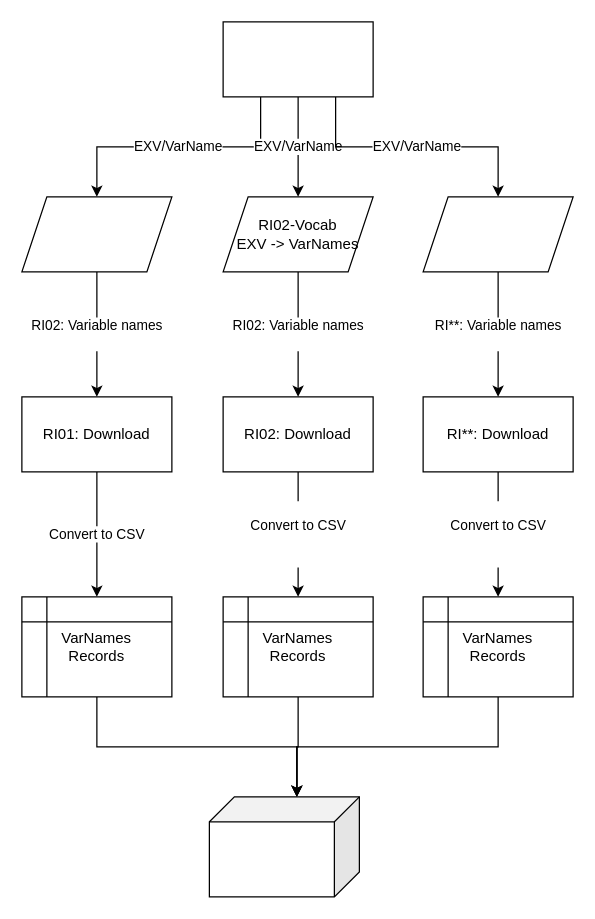
This 595x919 diagram has some shape labels left out. The shapes that lost their labels are listed below. From the top down, each one's centre as x and y in pixels, then its label:
At [297,59]: "Input EXV/VarName, bbox, date, etc.".
At [96,234]: "RI01-Vocab EXV -> VarNames".
At [497,234]: "RI**-Vocab EXV -> VarNames".
At [283,846]: "Final data".
